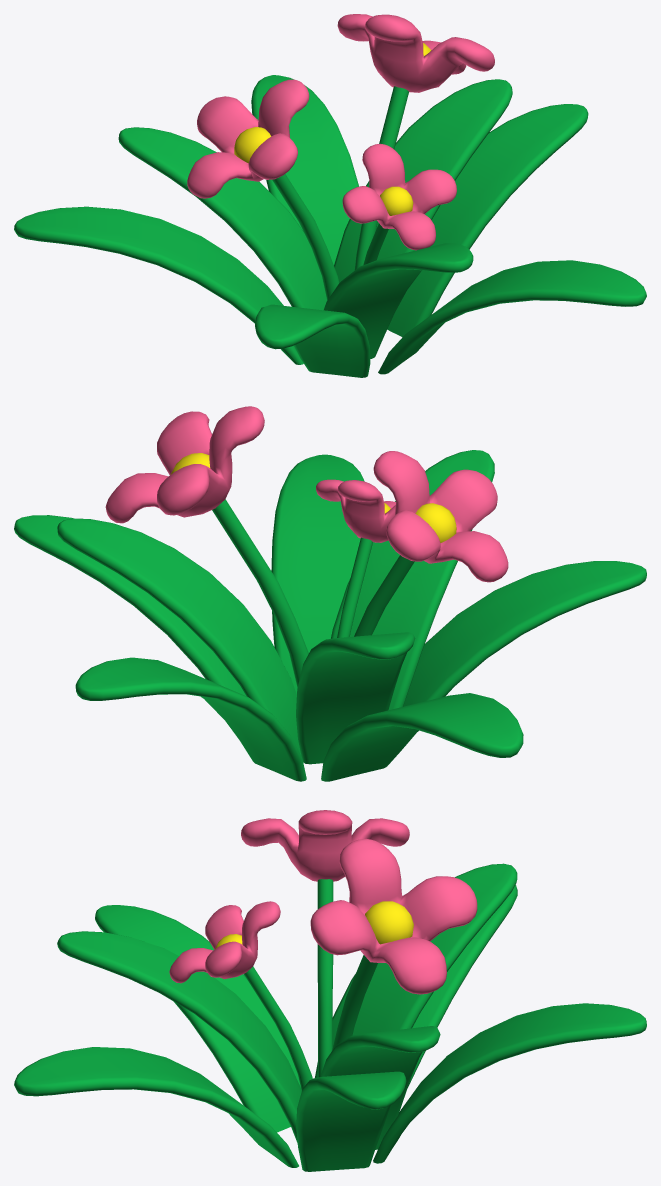
Rendered from Town_15_Plant_with_Flowers_2.glb.
3 renders of one model, top to bottom at view 1: azimuth 30°, elevation 25°; view 2: azimuth 150°, elevation 25°; view 3: azimuth 270°, elevation 25°, orthographic. The views are drawn at different scales.
Parts seen in each view (by area): view 1: Town_15_Plant_with_Flowers_2; view 2: Town_15_Plant_with_Flowers_2; view 3: Town_15_Plant_with_Flowers_2.
Part boxes in pixels (x1,y1,x2,y2): Town_15_Plant_with_Flowers_2: (14,14,646,377); Town_15_Plant_with_Flowers_2: (14,406,646,781); Town_15_Plant_with_Flowers_2: (14,810,646,1171).
Size of the model in its own units: 1.25 by 0.7184 by 1.26.
1 material, 1 textured.
